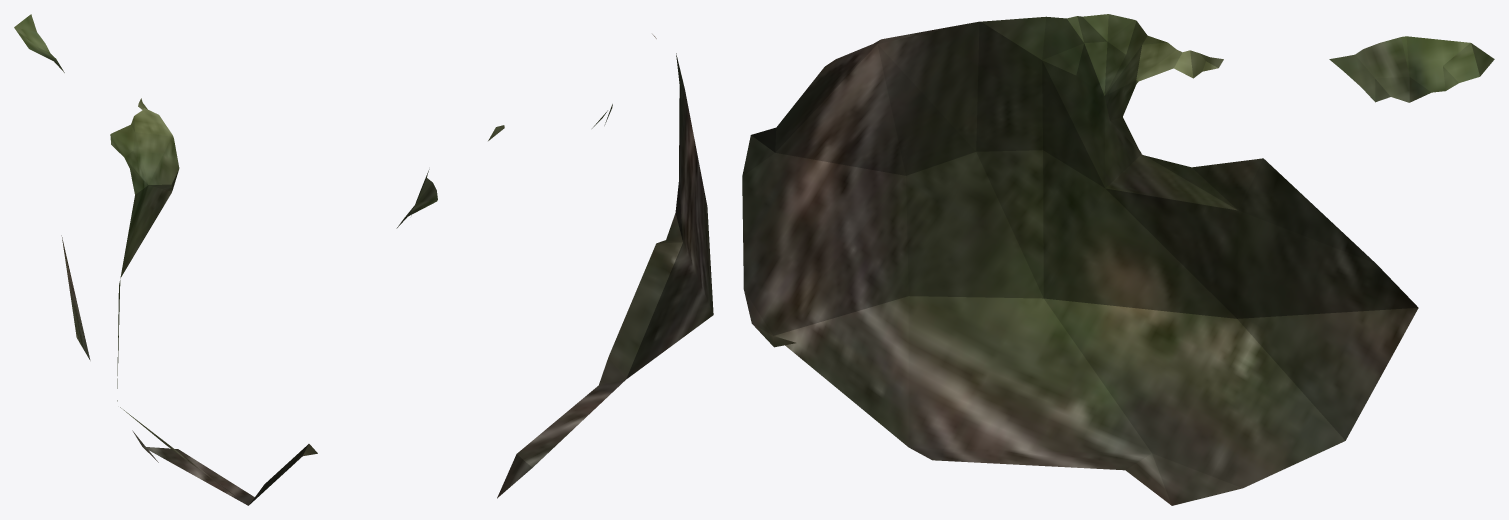
The picture shows the model from 3 angles, left to right: view 1: azimuth 30°, elevation 25°; view 2: azimuth 150°, elevation 25°; view 3: azimuth 270°, elevation 25°; orthographic projection. The views are drawn at different scales.
Size of the model in its own units: 0.3475 by 1.14 by 1.74.
1 material, 1 textured.
